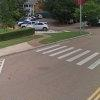Crosswalk: (37, 38, 100, 77)
